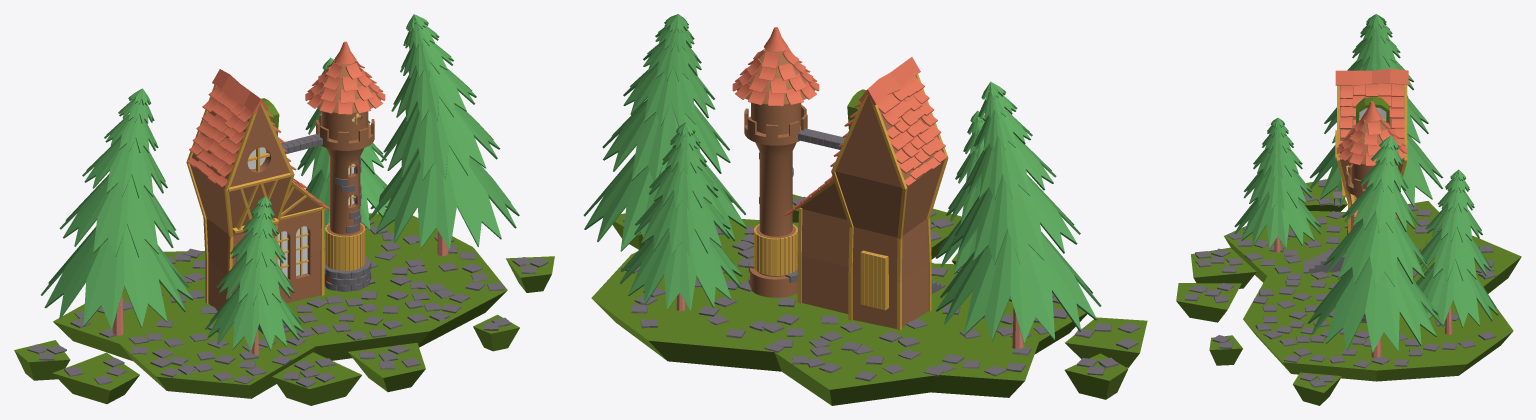
Rendered from domik.fbx.
3 views of the same model, side by side, from view 1: azimuth 30°, elevation 25°; view 2: azimuth 150°, elevation 25°; view 3: azimuth 270°, elevation 25° (orthographic). The views are drawn at different scales.
Parts seen in each view (by area): view 1: Cylinder.006, земля, плитка, дом, черепица, башня, дер отделка, кирпичи ступени, доски башни; view 2: Cylinder.006, земля, дом, черепица, плитка, башня, дер отделка, доски башни, дверь, кирпичи ступени; view 3: Cylinder.006, земля, плитка, черепица, башня, дер отделка, кирпичи ступени, чердак, дом.
Part boxes in pixels (<box>): Cylinder.006: <box>41,14,519,354</box>; земля: <box>14,213,554,405</box>; плитка: <box>27,220,548,387</box>; дом: <box>190,103,321,310</box>; черепица: <box>187,41,385,209</box>; башня: <box>309,62,381,290</box>; дер отделка: <box>186,84,326,303</box>; кирпичи ступени: <box>236,134,371,334</box>; доски башни: <box>325,223,365,270</box>; Cylinder.006: <box>583,14,1101,348</box>; земля: <box>591,194,1147,405</box>; дом: <box>800,93,944,328</box>; черепица: <box>732,27,947,215</box>; плитка: <box>621,196,1140,381</box>; башня: <box>737,50,815,297</box>; дер отделка: <box>797,74,948,330</box>; доски башни: <box>754,224,797,275</box>; дверь: <box>860,250,888,310</box>; кирпичи ступени: <box>748,128,945,293</box>; Cylinder.006: <box>1234,14,1498,358</box>; земля: <box>1176,179,1521,405</box>; плитка: <box>1184,180,1496,387</box>; черепица: <box>1335,69,1408,225</box>; башня: <box>1340,120,1403,198</box>; дер отделка: <box>1335,85,1407,258</box>; кирпичи ступени: <box>1303,224,1366,322</box>; чердак: <box>1356,97,1389,124</box>; дом: <box>1340,83,1404,230</box>.
Size of the model in its own units: 2421 by 1205 by 1620.
